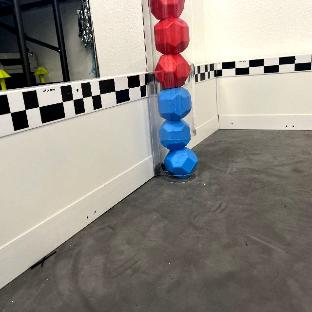V5_BLUE: (159, 87, 191, 118), (164, 148, 197, 176), (160, 118, 191, 146)
V5_RED: (154, 53, 191, 88), (154, 16, 189, 53), (150, 0, 183, 19)
